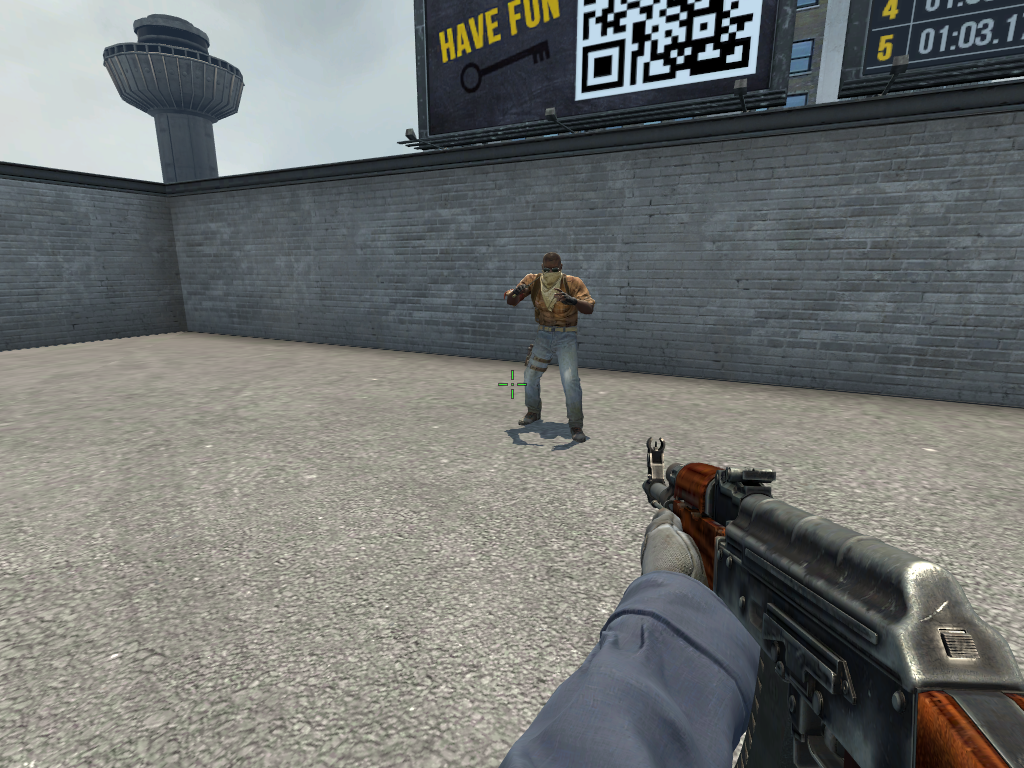tr head: (539, 251, 563, 286)
